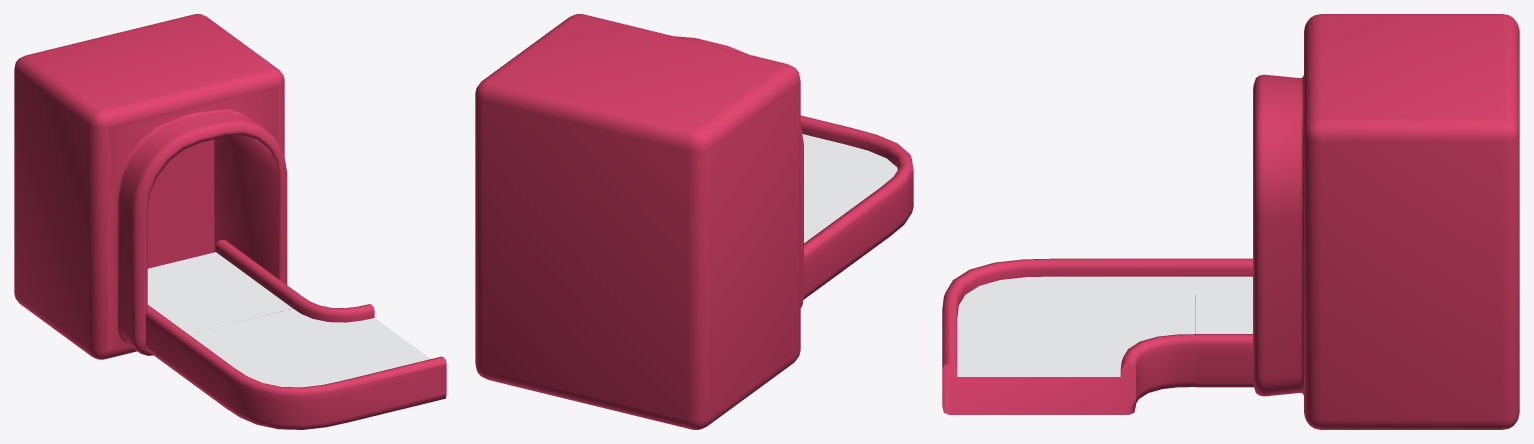
Rendered from ProductBelt-Pink.fbx.
3 views of the same model, side by side, from view 1: azimuth 30°, elevation 25°; view 2: azimuth 150°, elevation 25°; view 3: azimuth 270°, elevation 25° (orthographic). The views are drawn at different scales.
Visible parts, largest first — view 1: ProductBelt-Pink, L-path.001, I-path.001; view 2: ProductBelt-Pink, L-path.001, I-path.001; view 3: ProductBelt-Pink, L-path.001, I-path.001.
Part boxes in pixels (x1,y1,x2,y2): ProductBelt-Pink: (14,14,287,359); L-path.001: (169,296,446,429); I-path.001: (145,240,301,366); ProductBelt-Pink: (475,14,803,429); L-path.001: (800,115,913,285); I-path.001: (803,236,823,299); ProductBelt-Pink: (1253,14,1519,429); L-path.001: (942,258,1195,414); I-path.001: (1195,258,1254,387).
Bounding box in the file's own units: 137 × 158 × 268.
